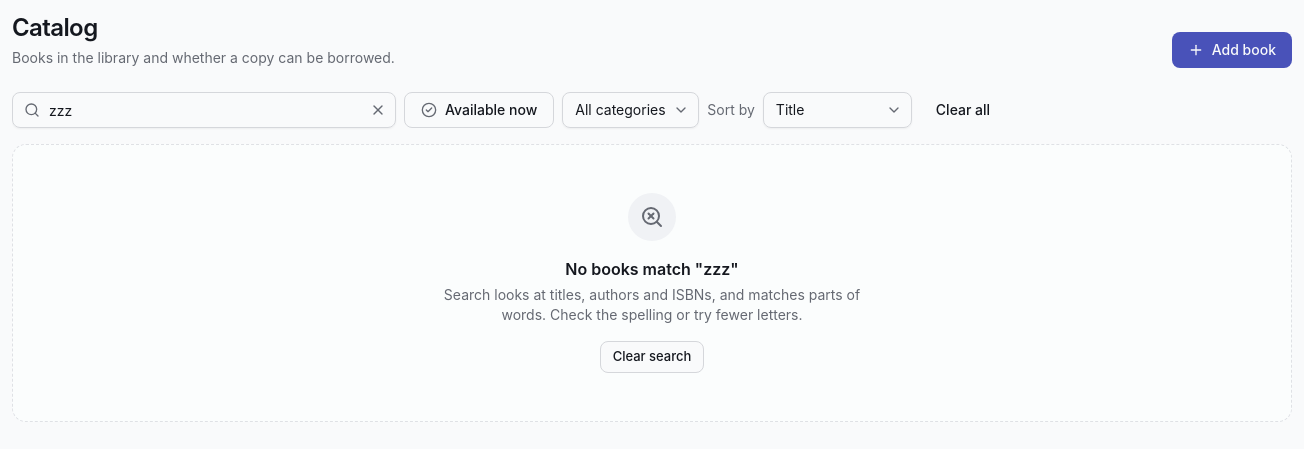
Scenario: CatalogPage › shows a no-results state for the search in the URL, and clears it
This screenshot has width=1304, height=449.
Expected: the heading "No books match \"zzz\"" is shown, [565,259,739,279]
Expected: the search field named "Search the catalog" holds "zzz", [12,92,396,128]
What coordinates should you click on to do the following:
click the button "Clear search"
I would click on:
 (652, 357)
Its box is [600,341,704,373].
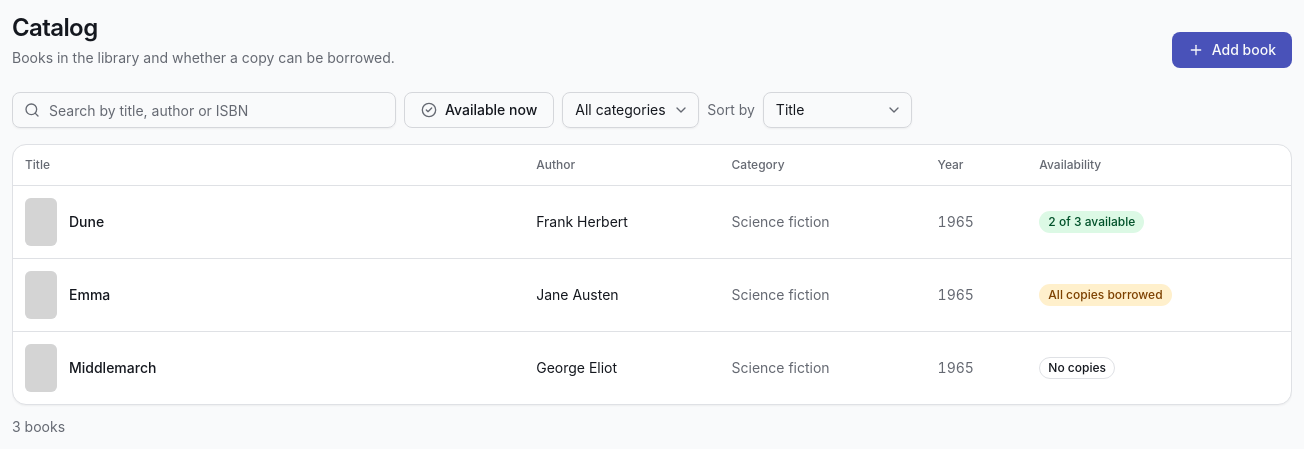
Expected: the link "Dune" is shown, [69,212,104,232]
Expected: the search field named "Search the catalog" is empty, [12,92,396,128]
